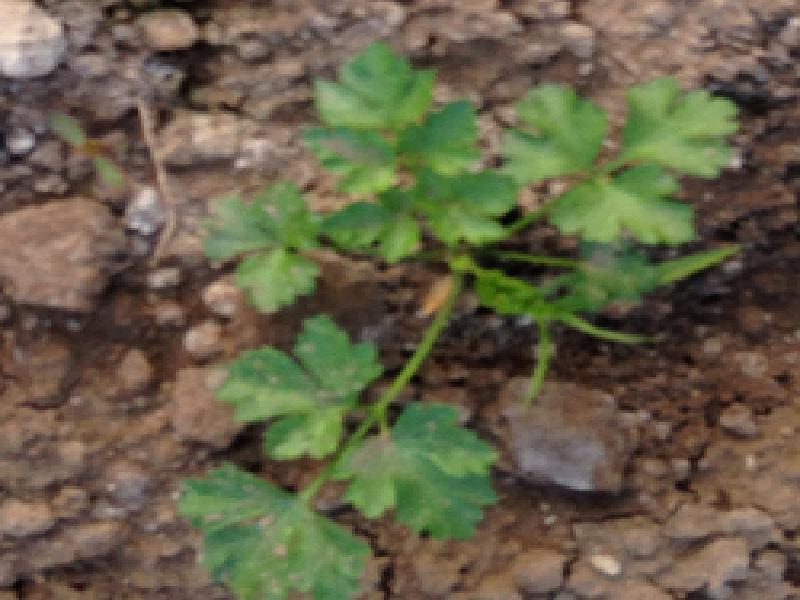radish: (110, 0, 800, 600)
